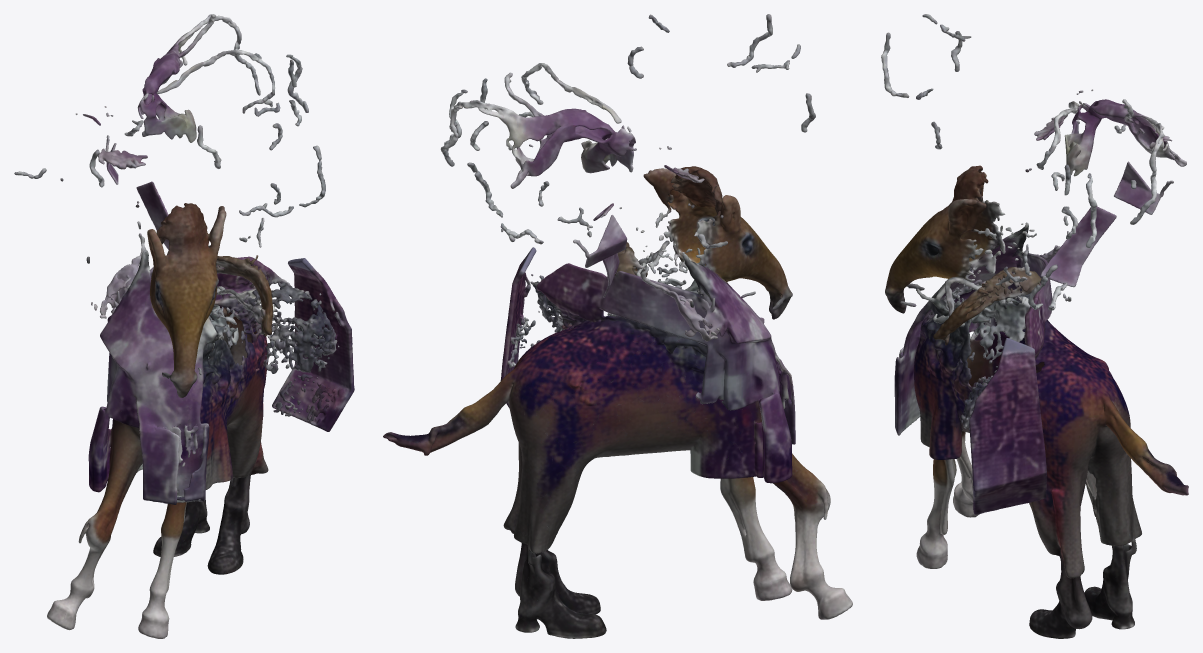
3 renders of one model, left to right at view 1: azimuth 30°, elevation 25°; view 2: azimuth 150°, elevation 25°; view 3: azimuth 270°, elevation 25°, orthographic. The views are drawn at different scales.
Parts seen in each view (by area): view 1: world; view 2: world; view 3: world.
Part boxes in pixels (x1,y1,x2,y2): world: (14,14,354,638); world: (383,14,852,638); world: (881,14,1188,638).
Bounding box in the file's own units: 0.6367 × 0.9689 × 0.4963.
1 material, 1 textured.
